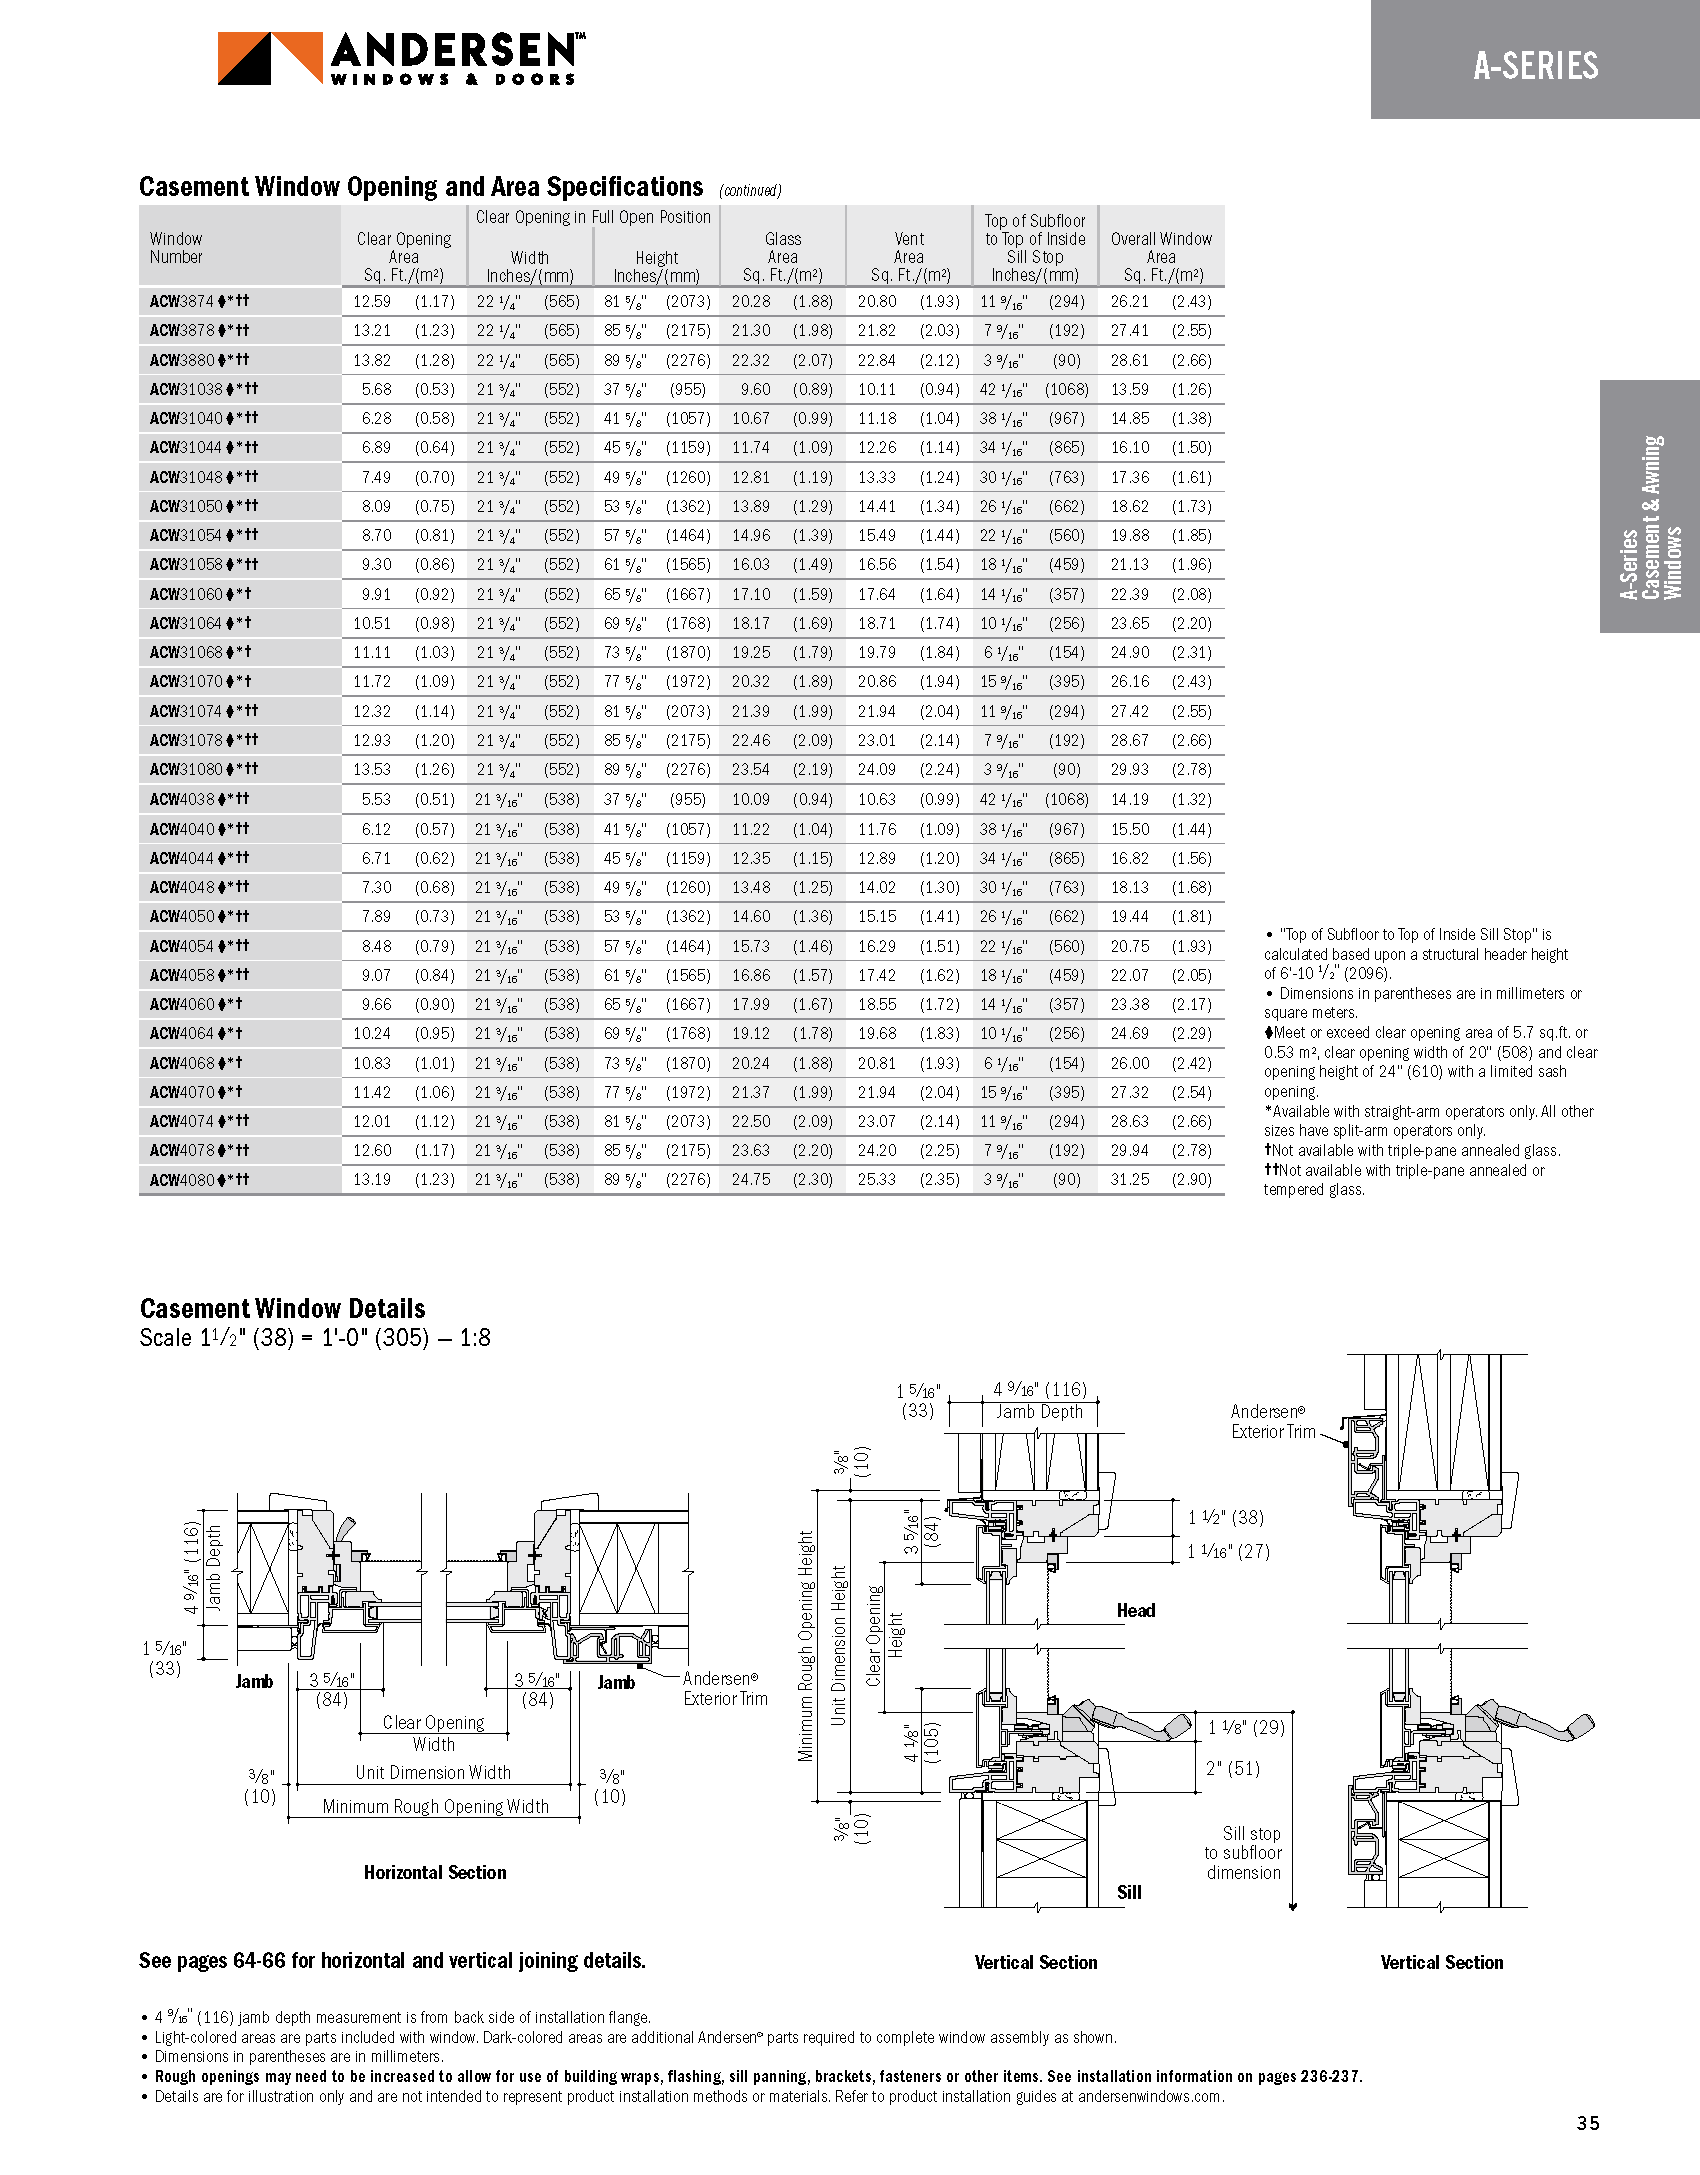tabledetected: (141, 203, 1225, 1195)
